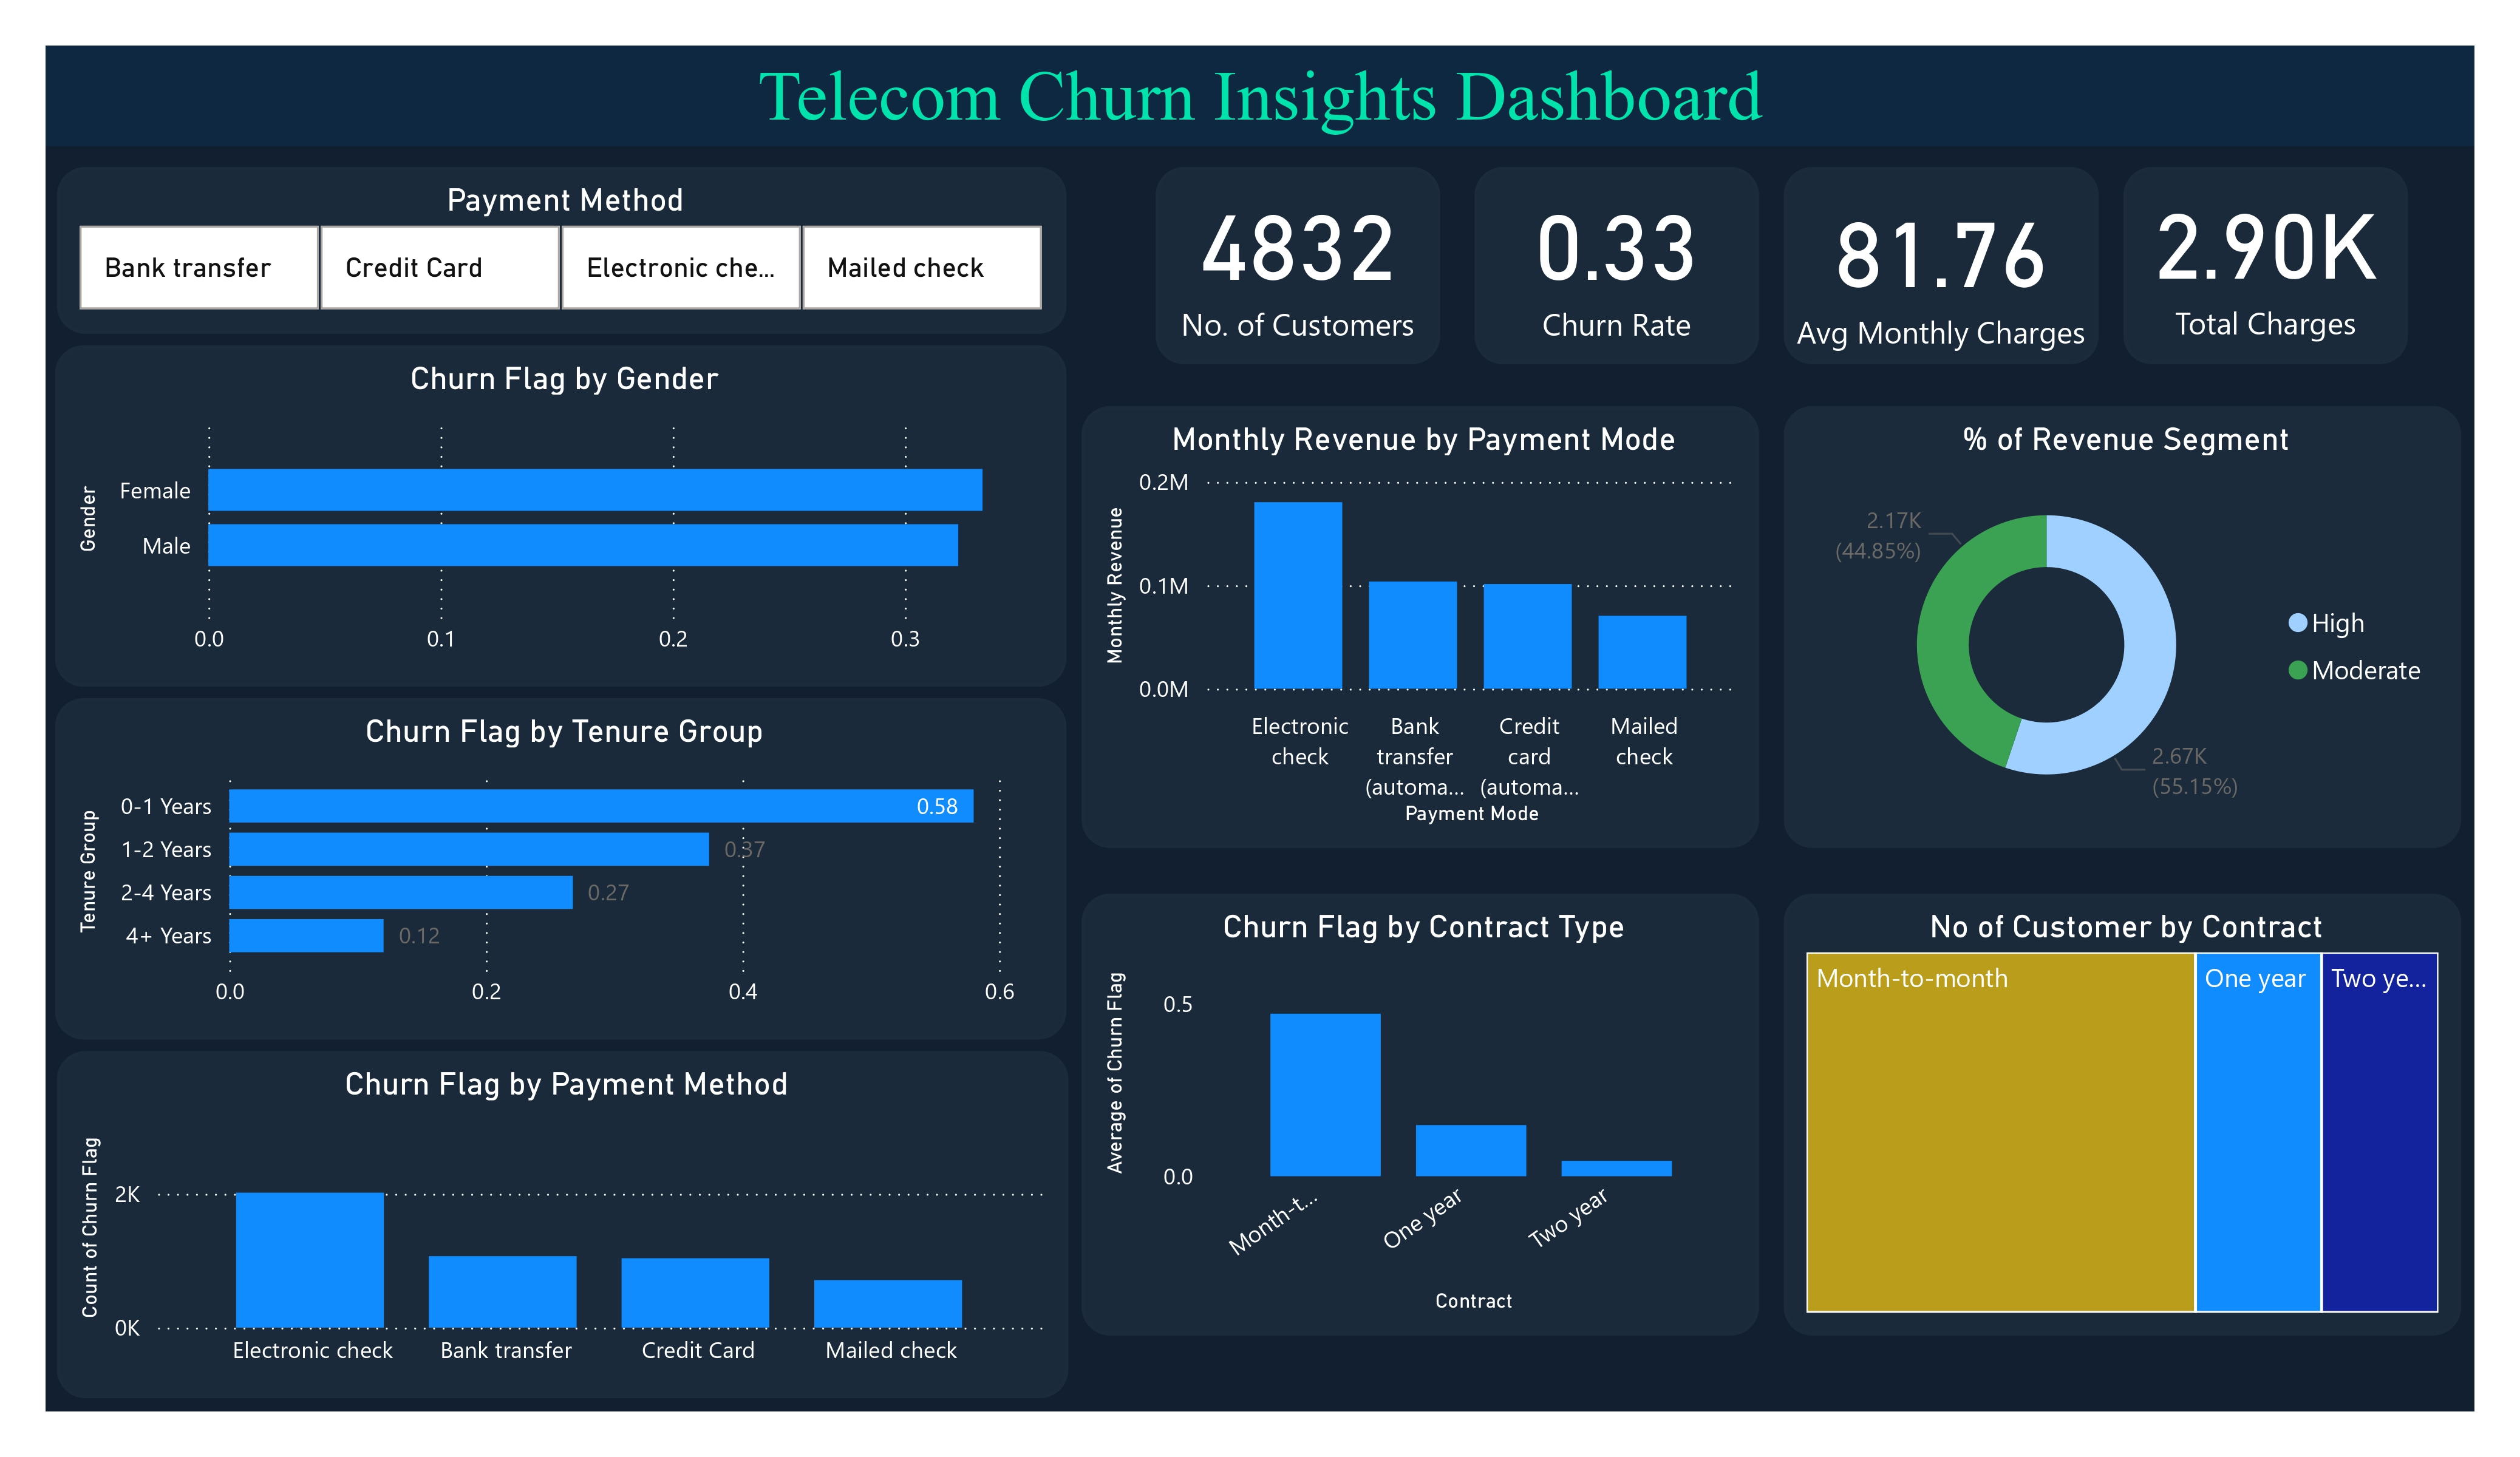

What the dashboard file says about the page in this screenshot:
{"tool":"powerbi","page":{"name":"Page 1","canvas":[1280,720],"ordinal":0},"visuals":[{"type":"card","title":"No of Customers","fields":{"Values":["CountNonNull(Telecom_Cleaned.customerID)"]},"box":[578,64,150,104],"z":0},{"type":"card","fields":{"Values":["Avg(Telecom_Cleaned.MonthlyCharges)"]},"box":[907,64,166,104],"z":1000},{"type":"card","fields":{"Values":["Avg(Telecom_Cleaned.ChurnFlag)"]},"box":[743,64,150,104],"z":2000},{"type":"card","fields":{"Values":["Avg(Telecom_Cleaned.TotalCharges)"]},"box":[1085,64,150,104],"z":3000},{"type":"clusteredColumnChart","title":"Churn Flag by Contract Type","fields":{"Category":["Telecom_Cleaned.Contract"],"Y":["Avg(Telecom_Cleaned.ChurnFlag)"]},"box":[546,447,357,233],"z":4000},{"type":"clusteredColumnChart","fields":{"Category":["MonthlyRevSummery.PaymentMethod"],"Y":["Avg(MonthlyRevSummery.TotalMonthlyRevenue)"]},"box":[546,190,357,233],"z":5000},{"type":"barChart","title":"Churn Flag by Tenure Group","fields":{"Category":["Telecom_Cleaned.TenureGroup"],"Y":["Avg(Telecom_Cleaned.ChurnFlag)"]},"box":[5,344,533,180],"z":6000},{"type":"clusteredColumnChart","title":"Churn Flag by Payment Method","fields":{"Category":["Telecom_Cleaned.PaymentMethod"],"Y":["CountNonNull(Telecom_Cleaned.ChurnFlag)"]},"box":[6,530,533,183],"z":7000},{"type":"donutChart","title":"% of Revenue Segment","fields":{"Y":["CountNonNull(Telecom_Cleaned.RevenueSegment)"],"Category":["Telecom_Cleaned.RevenueSegment"]},"box":[916,190,357,233],"z":8000},{"type":"barChart","title":"Churn Flag by Gender","fields":{"Category":["Telecom_Cleaned.gender"],"Y":["Avg(Telecom_Cleaned.ChurnFlag)"]},"box":[5,158,533,180],"z":9000},{"type":"treemap","fields":{"Values":["CountNonNull(Telecom_Cleaned.customerID)"],"Group":["Telecom_Cleaned.Contract"]},"box":[916,447,357,233],"z":10000},{"type":"textbox","box":[0,0,1280,53],"z":11000},{"type":"advancedSlicerVisual","title":"Payment Method","fields":{"Values":["Telecom_Cleaned.PaymentMethod"]},"box":[6,64,532,88],"z":12000}]}

Visuals, with their boxes in screenshot pixels (x1, y1, x2, y2):
"No of Customers" card: <box>1142,167,1427,364</box>
card - Avg(Telecom_Cleaned.MonthlyCharges): <box>1766,167,2082,364</box>
card - Avg(Telecom_Cleaned.ChurnFlag): <box>1456,167,1740,364</box>
card - Avg(Telecom_Cleaned.TotalCharges): <box>2105,167,2389,364</box>
"Churn Flag by Contract Type" clusteredColumnChart: <box>1081,894,1759,1336</box>
clusteredColumnChart - MonthlyRevSummery.PaymentMethod x Avg(MonthlyRevSummery.TotalMonthlyRevenue): <box>1081,406,1759,848</box>
"Churn Flag by Tenure Group" barChart: <box>55,698,1066,1039</box>
"Churn Flag by Payment Method" clusteredColumnChart: <box>57,1051,1068,1398</box>
"% of Revenue Segment" donutChart: <box>1784,406,2461,848</box>
"Churn Flag by Gender" barChart: <box>55,345,1066,687</box>
treemap - CountNonNull(Telecom_Cleaned.customerID) x Telecom_Cleaned.Contract: <box>1784,894,2461,1336</box>
textbox: <box>46,46,2474,146</box>
"Payment Method" advancedSlicerVisual: <box>57,167,1066,334</box>
